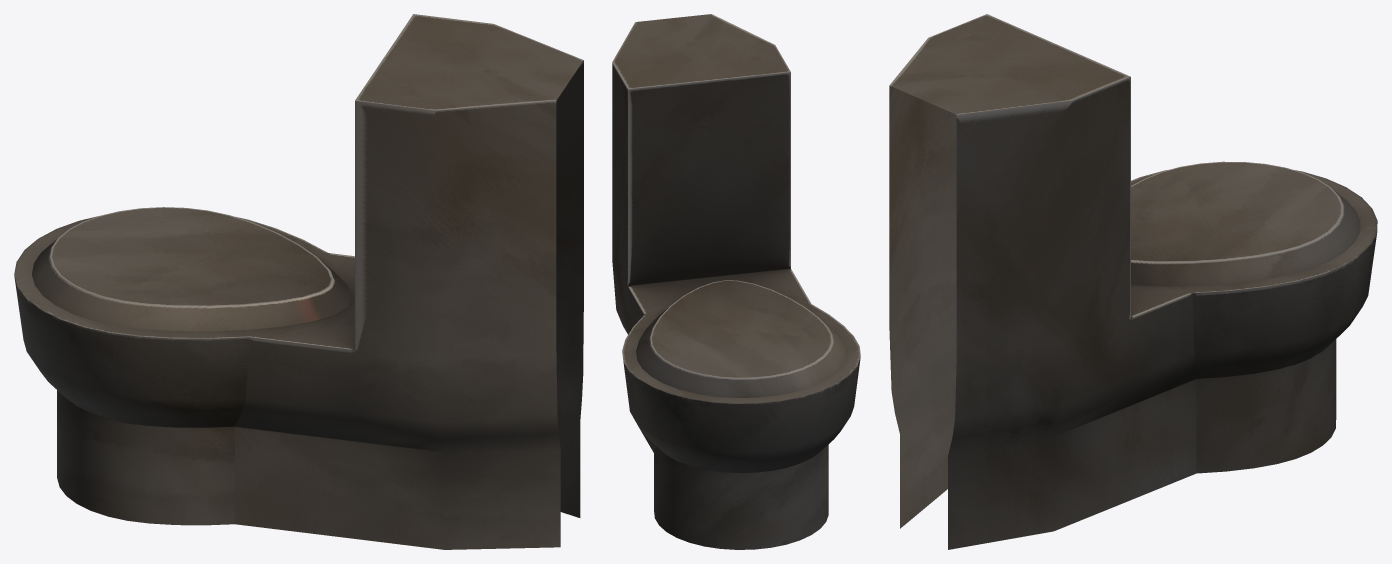
File: Cela_Toilet.fbx
The picture shows the model from 3 angles, left to right: view 1: azimuth 30°, elevation 25°; view 2: azimuth 150°, elevation 25°; view 3: azimuth 270°, elevation 25°; orthographic projection. The views are drawn at different scales.
Parts seen in each view (by area): view 1: Cylinder; view 2: Cylinder; view 3: Cylinder.
Boxes of the visible parts, <box> form: Cylinder: <box>14,14,583,549</box>; Cylinder: <box>612,14,860,549</box>; Cylinder: <box>889,14,1377,549</box>.
Bounding box in the file's own units: 59.95 × 63.72 × 64.24.
